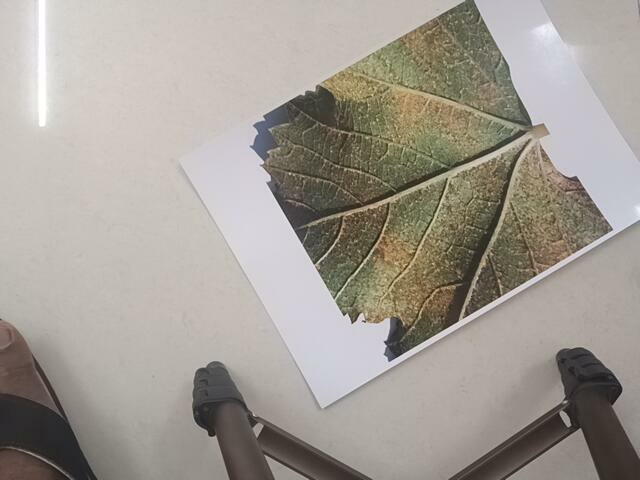Grape_Rust_Fungus: (252, 1, 614, 326)
